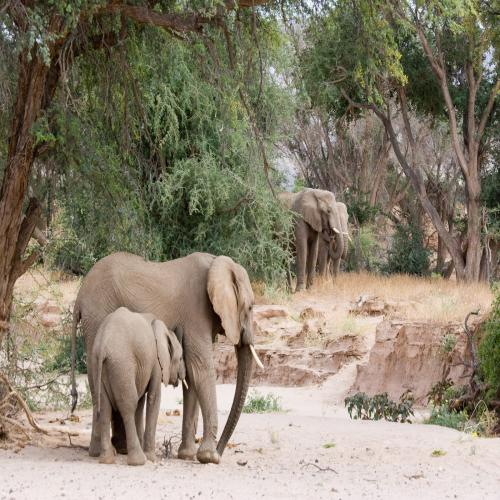asian_elephant-endangered: (84, 250, 259, 454), (93, 309, 185, 457), (275, 181, 340, 279), (332, 196, 349, 270)
